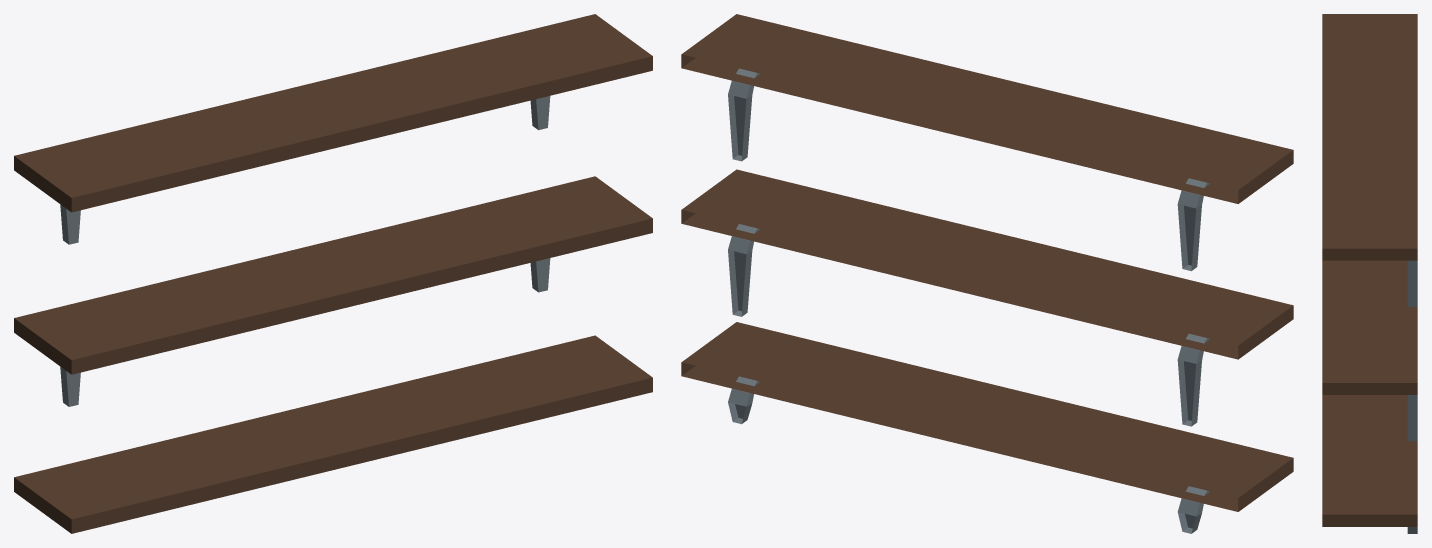
Rendered from SM_Bld_Shelf_01.obj.
3 views of the same model, side by side, from view 1: azimuth 30°, elevation 25°; view 2: azimuth 150°, elevation 25°; view 3: azimuth 270°, elevation 25° (orthographic). The views are drawn at different scales.
Visible parts, largest first — view 1: SM_Bld_Shelf_01_0; view 2: SM_Bld_Shelf_01_0; view 3: SM_Bld_Shelf_01_0.
Boxes of the visible parts, x1,y1,x2,y2 form: SM_Bld_Shelf_01_0: (14, 14, 652, 533); SM_Bld_Shelf_01_0: (681, 14, 1293, 533); SM_Bld_Shelf_01_0: (1322, 14, 1417, 533).
Size of the model in its own units: 2.42 by 1.47 by 0.4153.
1 material, 1 textured.
